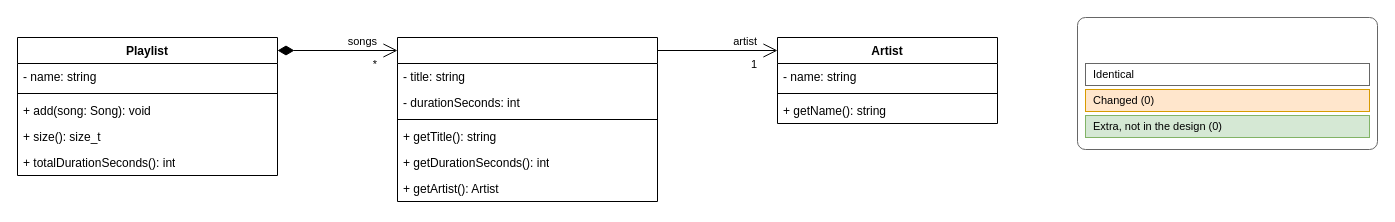
Some shapes in this 1395 by 222 pixel diagram are drawn without their labels. The box of each missing label's shape, as (x1, y1, x2, y2) in pixels:
IMPLEMENTED DESIGN built by AI · extracted from impl/include: (1076, 16, 1378, 150)
Song: (396, 36, 658, 202)
